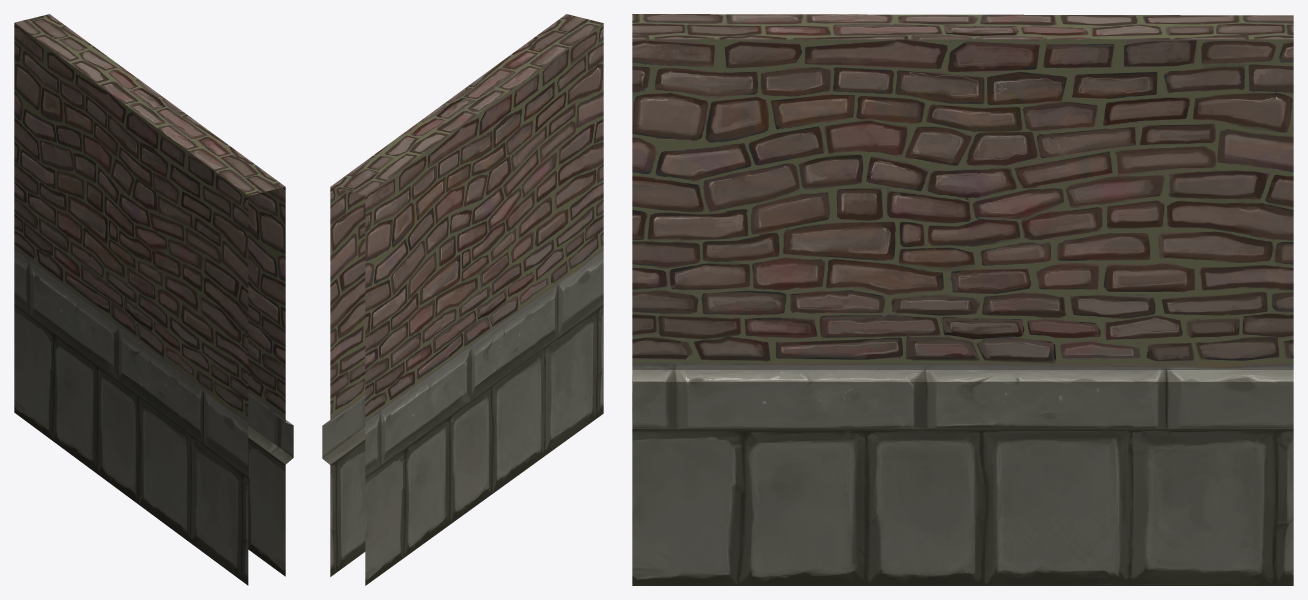
File: WallBaseStraight.FBX
The picture shows the model from 3 angles, left to right: view 1: azimuth 30°, elevation 25°; view 2: azimuth 150°, elevation 25°; view 3: azimuth 270°, elevation 25°; orthographic projection. The views are drawn at different scales.
Parts seen in each view (by area): view 1: WallBaseStraight; view 2: WallBaseStraight; view 3: WallBaseStraight.
Part boxes in pixels (bbox=[...]): WallBaseStraight: bbox=[14, 14, 293, 585]; WallBaseStraight: bbox=[322, 14, 603, 585]; WallBaseStraight: bbox=[632, 14, 1293, 585].
Size of the model in its own units: 0.3058 by 2.52 by 2.76.
